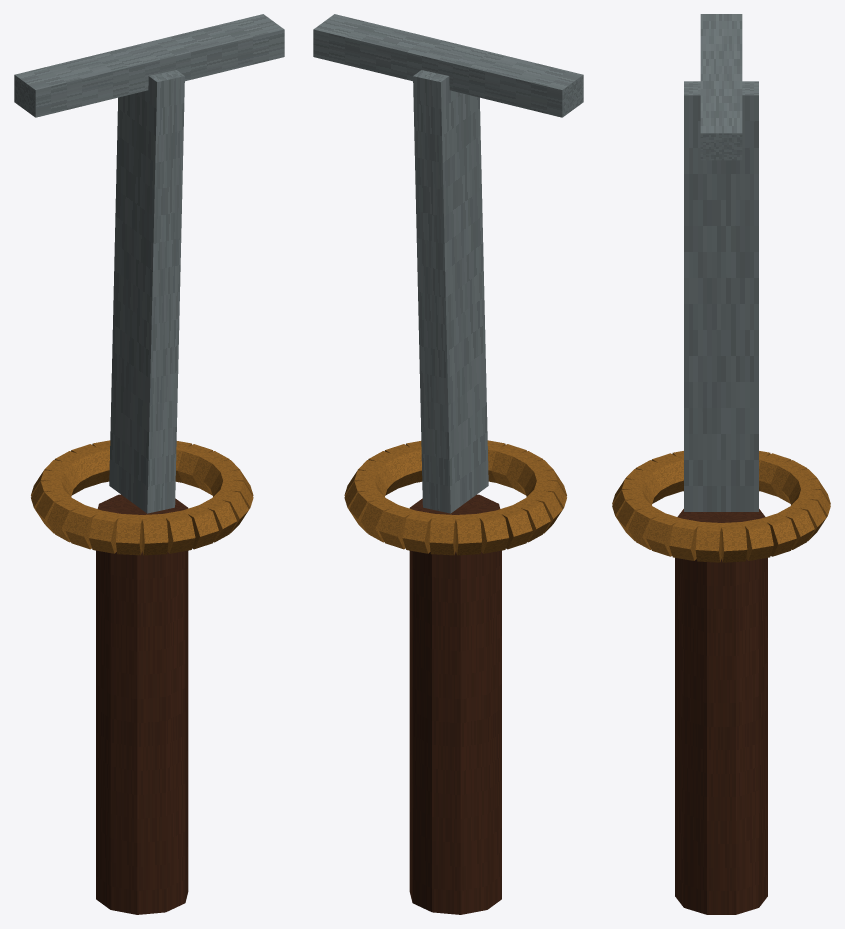
File: SM_surgeon_knife.gltf
The picture shows the model from 3 angles, left to right: view 1: azimuth 30°, elevation 25°; view 2: azimuth 150°, elevation 25°; view 3: azimuth 270°, elevation 25°; orthographic projection.
Visible parts, largest first — view 1: root; view 2: root; view 3: root.
Part boxes in pixels (x1,y1,x2,y2): root: (14,14,284,914); root: (313,14,583,914); root: (612,14,830,914).
Size of the model in its own units: 0.17 by 0.549 by 0.1318.
3 materials, 3 textured.
